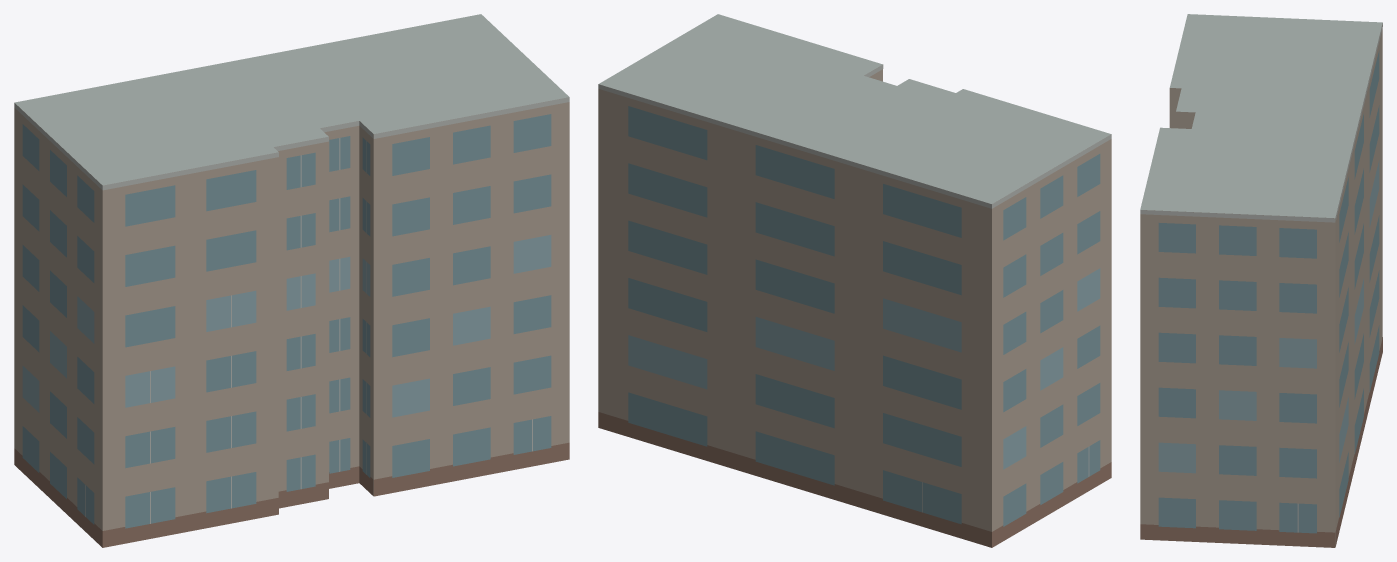
The model's file is survey-upis-32662573.glb.
3 renders of one model, left to right at view 1: azimuth 30°, elevation 25°; view 2: azimuth 150°, elevation 25°; view 3: azimuth 270°, elevation 25°, orthographic. The views are drawn at different scales.
Visible parts, largest first — view 1: survey-upis-32662573.tmp; view 2: survey-upis-32662573.tmp; view 3: survey-upis-32662573.tmp.
Part boxes in pixels (x1,y1,x2,y2): survey-upis-32662573.tmp: (14,14,569,547); survey-upis-32662573.tmp: (598,14,1111,547); survey-upis-32662573.tmp: (1140,14,1382,547).
Size of the model in its own units: 24.18 by 18.2 by 12.15.
